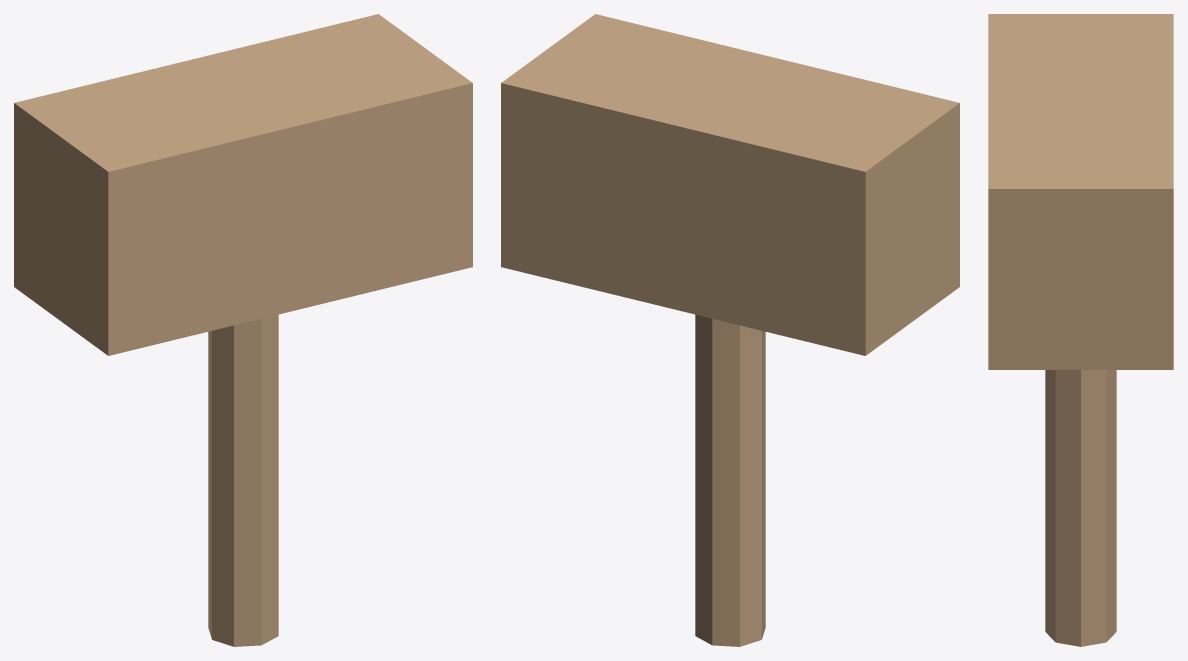
Rendered from mazo_0.glb.
3 renders of one model, left to right at view 1: azimuth 30°, elevation 25°; view 2: azimuth 150°, elevation 25°; view 3: azimuth 270°, elevation 25°, orthographic.
Parts seen in each view (by area): view 1: cabeza, mango; view 2: cabeza, mango; view 3: cabeza, mango.
Part boxes in pixels (box(x1,y1,x2,y2)): cabeza: box(14, 14, 472, 355); mango: box(208, 314, 278, 646); cabeza: box(501, 14, 959, 355); mango: box(695, 314, 765, 646); cabeza: box(988, 14, 1173, 369); mango: box(1045, 370, 1116, 646).
Size of the model in its own units: 0.6366 by 0.9 by 0.2854.
